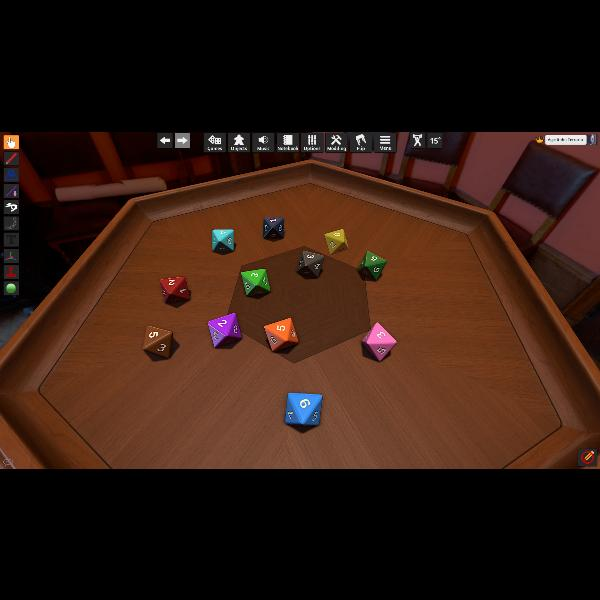d8: (362, 322, 398, 360), (286, 392, 323, 426), (264, 317, 298, 351), (208, 314, 238, 348), (143, 326, 173, 358), (358, 250, 386, 280), (240, 268, 270, 296), (159, 275, 189, 303), (297, 250, 323, 278), (325, 228, 347, 254), (212, 228, 234, 252), (263, 217, 285, 239)
